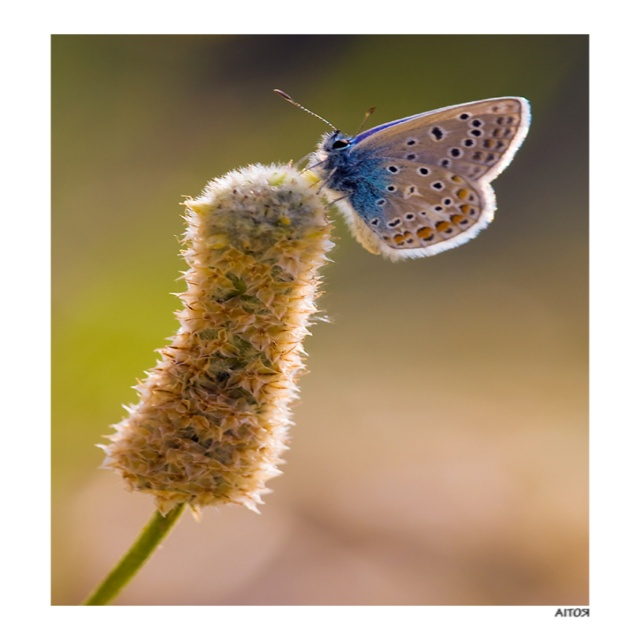Butterfly: (255, 78, 530, 267)
